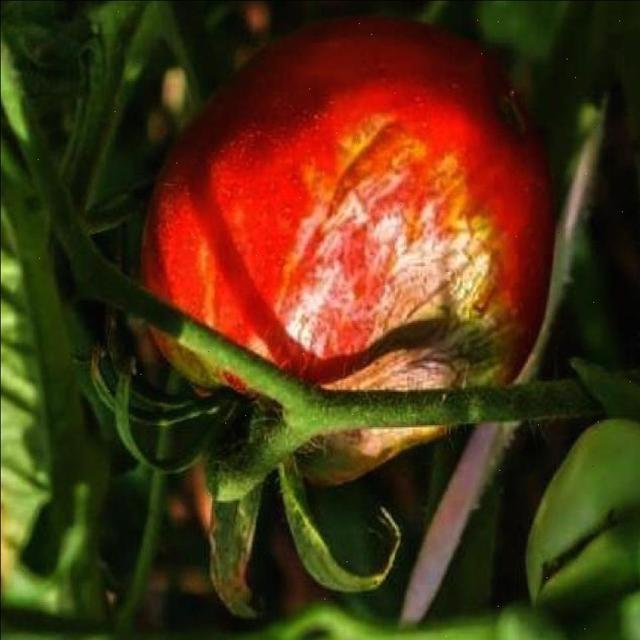Sunscald Fruit: (163, 80, 354, 302)
